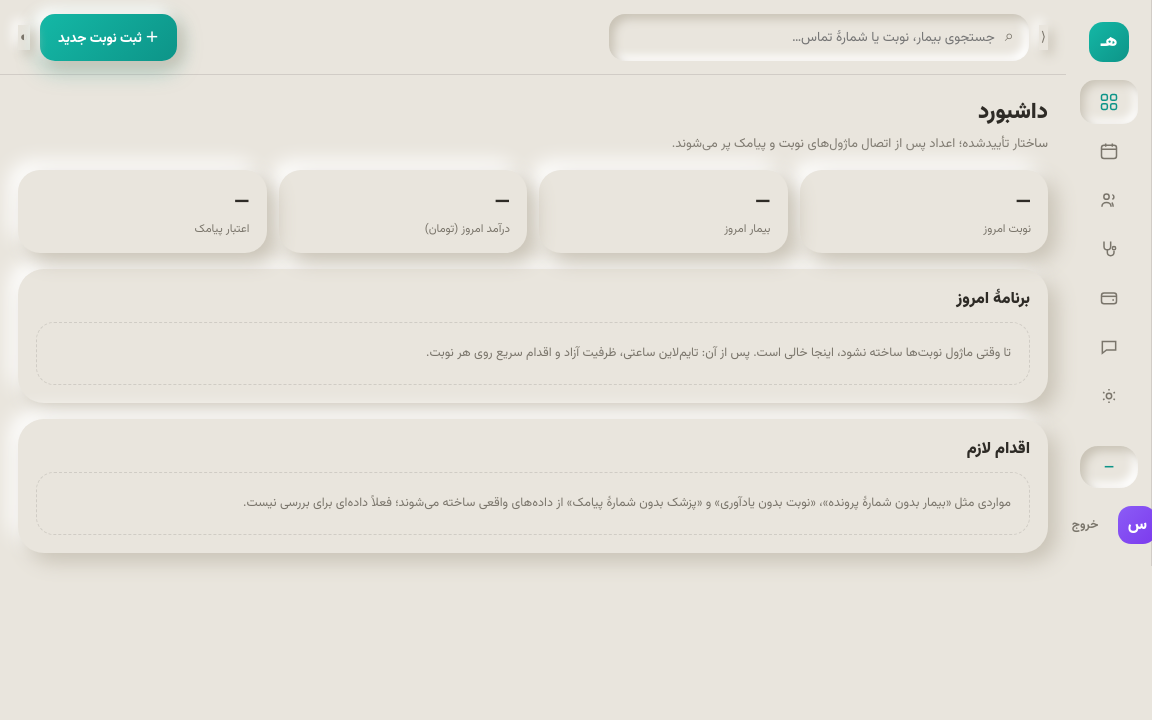
Test case: PanelShell chrome › opens the appointments section from the primary action
Click the button "＋ ثبت نوبت جدید": click(108, 38) 40,14 -> 177,61
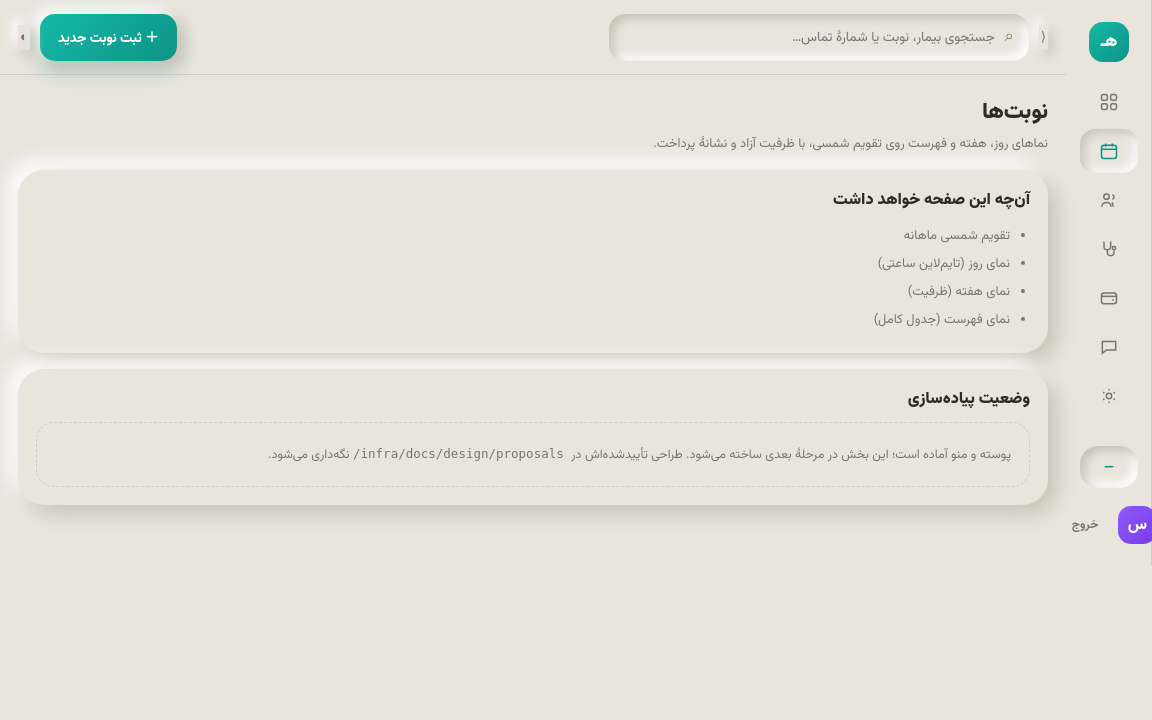
Now the heading "نوبت‌ها" is shown, box 982,95 -> 1048,130
